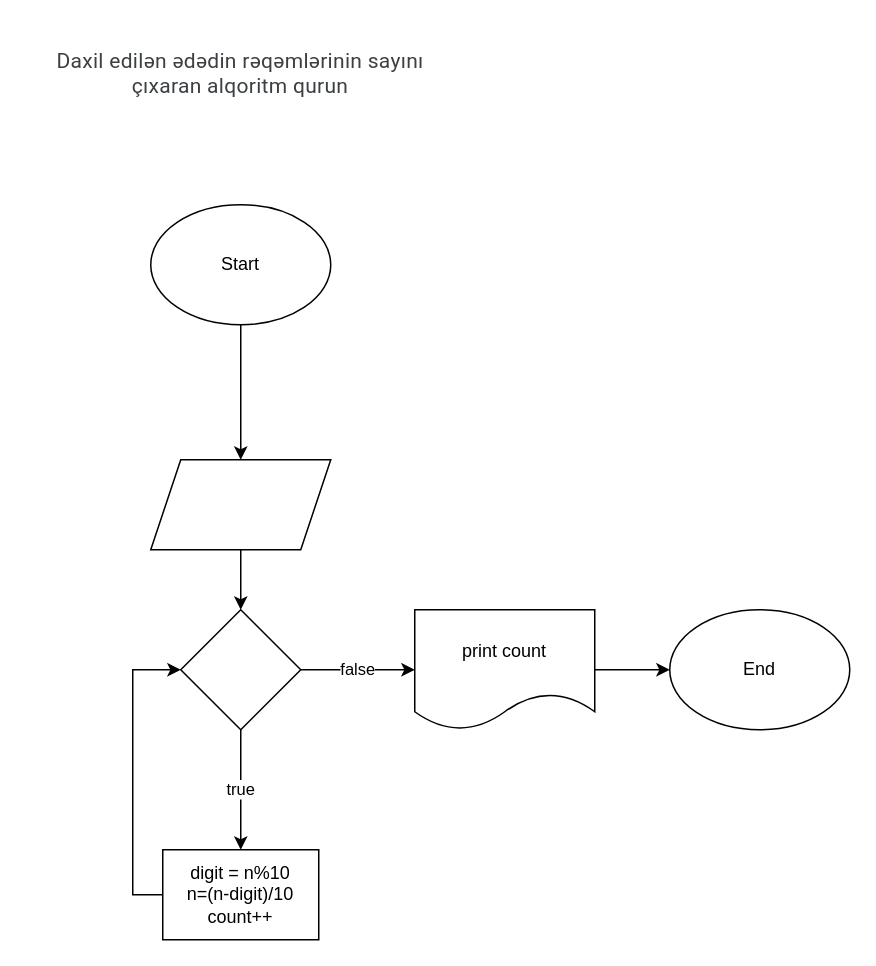
Some shapes in this 876 by 966 pixel diagram are drawn without their labels. The shapes that lost their labels are listed below. From the top down, each one's centre as x and y in pixels, then its label:
At point (240, 504): "n, count=0".
At point (240, 669): "n>0".
